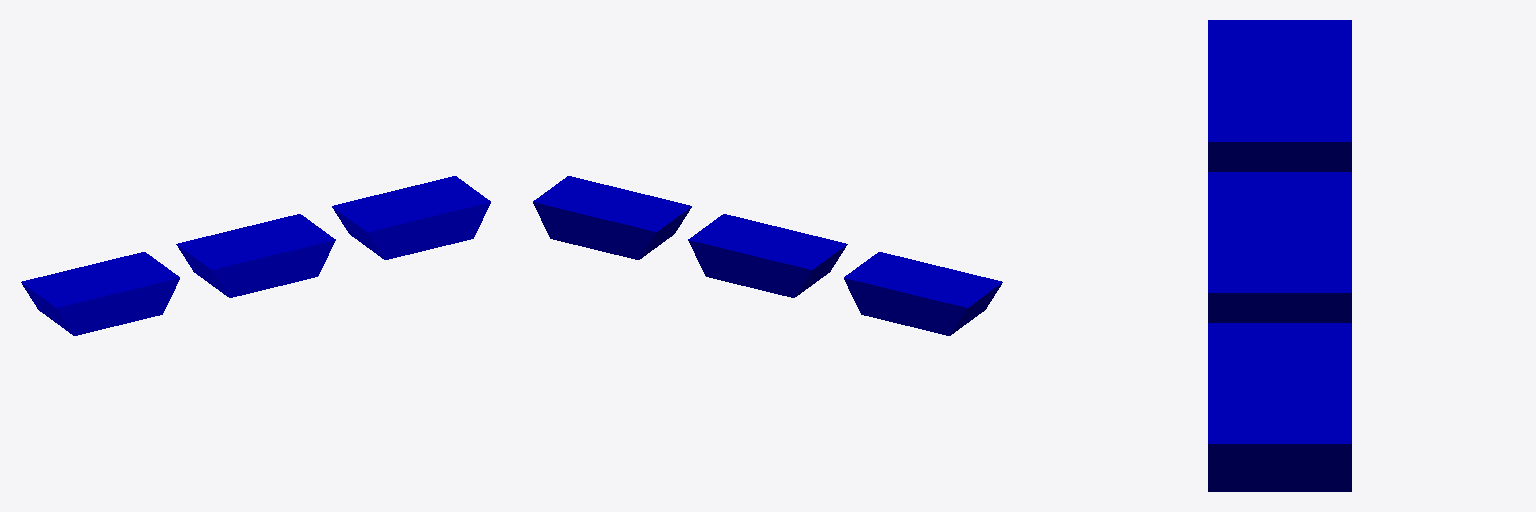
URDF robot description (physics):
<?xml version="1.0"?>
<robot name="physics">

<link name="base_link">
    <visual>
        <origin xyz="0 0 0" rpy="3.1415926 0 0"/>
        <geometry>
            <mesh filename="unit.stl" scale="0.001 0.001 0.001"/>
        </geometry>
        <material name="blue">
            <color rgba="0 0 .8 1"/>
        </material>
    </visual>
    <collision>
        <origin xyz="0 0 0" rpy="3.1415926 0 0"/>
        <geometry>
            <mesh filename="unit.stl" scale="0.001 0.001 0.001"/>
        </geometry>
        <contact_coefficients mu="0.8" />
    </collision>
</link>

<link name="link1">
    <visual>
        <origin xyz="0.0025 0 0" rpy="3.1415926 0 0"/>
        <geometry>
            <mesh filename="unit.stl" scale="0.001 0.001 0.001"/>
        </geometry>
        <material name="blue">
            <color rgba="0 0 .8 1"/>
        </material>
    </visual>
    <collision>
        <origin xyz="0.0025 0 0" rpy="3.1415926 0 0"/>
        <geometry>
            <mesh filename="unit.stl" scale="0.001 0.001 0.001"/>
        </geometry>
        <contact_coefficients mu="0.8" />
    </collision>
</link>

<link name="link2">
    <visual>
        <origin xyz="0.0025 0 0" rpy="3.1415926 0 0"/>
        <geometry>
            <mesh filename="unit.stl" scale="0.001 0.001 0.001"/>
        </geometry>
        <material name="blue">
            <color rgba="0 0 .8 1"/>
        </material>
    </visual>
    <collision>
        <origin xyz="0.0025 0 0" rpy="3.1415926 0 0"/>
        <geometry>
            <mesh filename="unit.stl" scale="0.001 0.001 0.001"/>
        </geometry>
        <contact_coefficients mu="0.8" />
    </collision>
</link>

<joint name="joint01" type="revolute">
    <origin xyz="0.0225 0 0"/>
    <parent link="base_link"/>
    <child link="link1"/>
    <axis xyz="0 1 0"/>
    <limit lower="-.1" upper="1.3" effort="300" velocity="1"/>
</joint>

<joint name="joint12" type="revolute">
    <origin xyz="0.025 0 0"/>
    <parent link="link1"/>
    <child link="link2"/>
    <axis xyz="0 1 0"/>
    <limit lower="-.1" upper="1.3" effort="300" velocity="1"/>
</joint>

</robot>

--- Render facts (derived) ---
The picture shows the robot from 3 angles, left to right: view 1: azimuth 30°, elevation 25°; view 2: azimuth 150°, elevation 25°; view 3: azimuth 270°, elevation 25°; orthographic projection.
Robot: physics — 3 links, 2 joints (2 revolute); root link base_link; default pose: all joints at 0.
Visible links, largest first — view 1: base_link, link1, link2; view 2: base_link, link1, link2; view 3: link2, base_link, link1.
Link boxes in pixels (x1,y1,x2,y2): base_link: [21, 252, 179, 335]; link1: [176, 214, 335, 297]; link2: [332, 176, 490, 259]; base_link: [844, 252, 1002, 335]; link1: [688, 214, 847, 297]; link2: [533, 176, 691, 259]; link2: [1208, 323, 1351, 491]; base_link: [1208, 20, 1351, 171]; link1: [1208, 172, 1351, 322].
Bounding box of the posed robot: 0.07 × 0.01 × 0.005 m (x, y, z).
Meshes: 1 distinct files referenced, 3 mesh visuals loaded (1 binary STL).